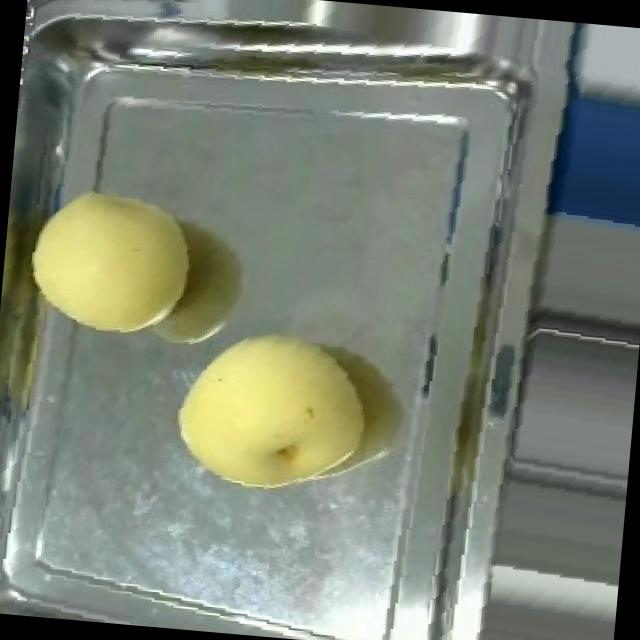Fruit: (160, 312, 380, 506), (18, 175, 202, 346)
